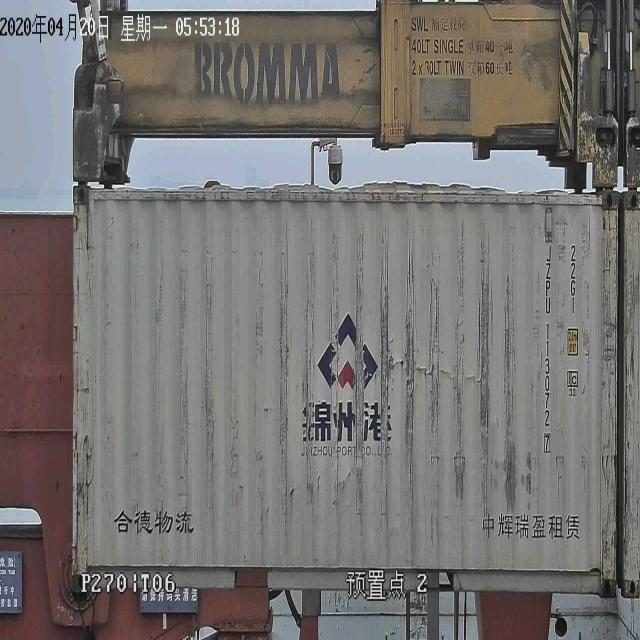dent: (361, 177, 518, 220)
